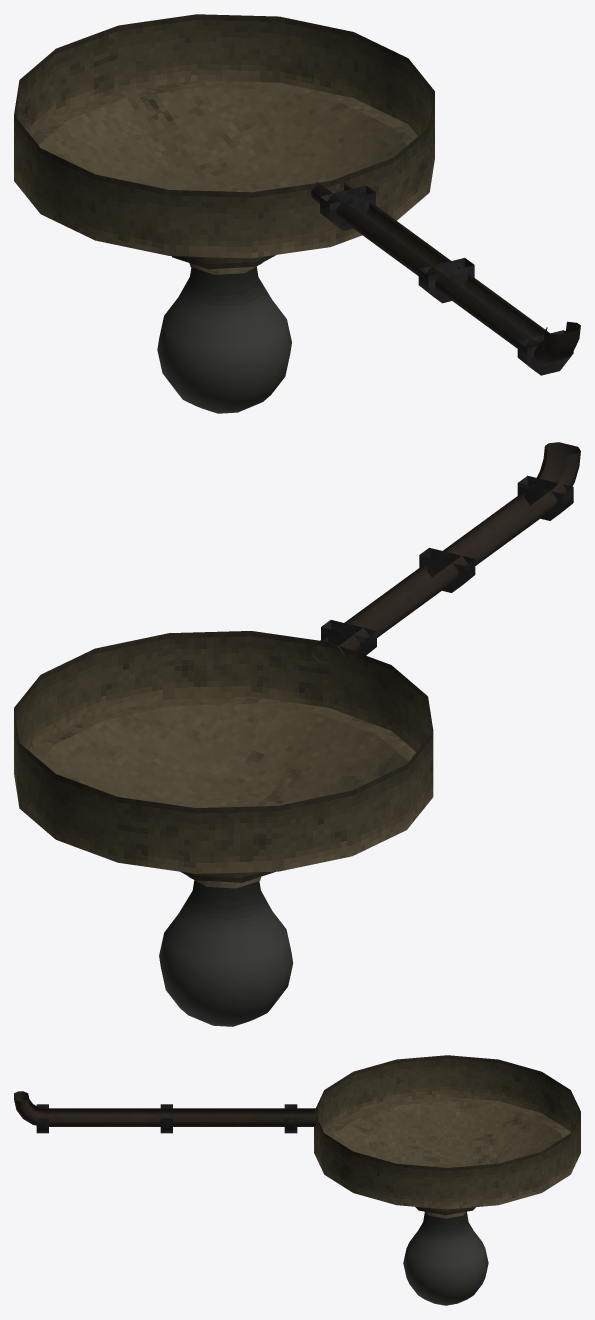
Rendered from ceiling_lamp_mp_1_1_off.glb.
The picture shows the model from 3 angles, top to bottom: view 1: azimuth 30°, elevation 25°; view 2: azimuth 150°, elevation 25°; view 3: azimuth 270°, elevation 25°; orthographic projection. The views are drawn at different scales.
Parts seen in each view (by area): view 1: ceiling_lamp_mp_1_1_off; view 2: ceiling_lamp_mp_1_1_off; view 3: ceiling_lamp_mp_1_1_off.
Part boxes in pixels (<box>): ceiling_lamp_mp_1_1_off: <box>14,14,580,413</box>; ceiling_lamp_mp_1_1_off: <box>14,442,580,1026</box>; ceiling_lamp_mp_1_1_off: <box>14,1055,580,1305</box>.
Bounding box in the file's own units: 0.215 × 0.1827 × 0.4568.
Materials: 4 (4 with a texture image).
